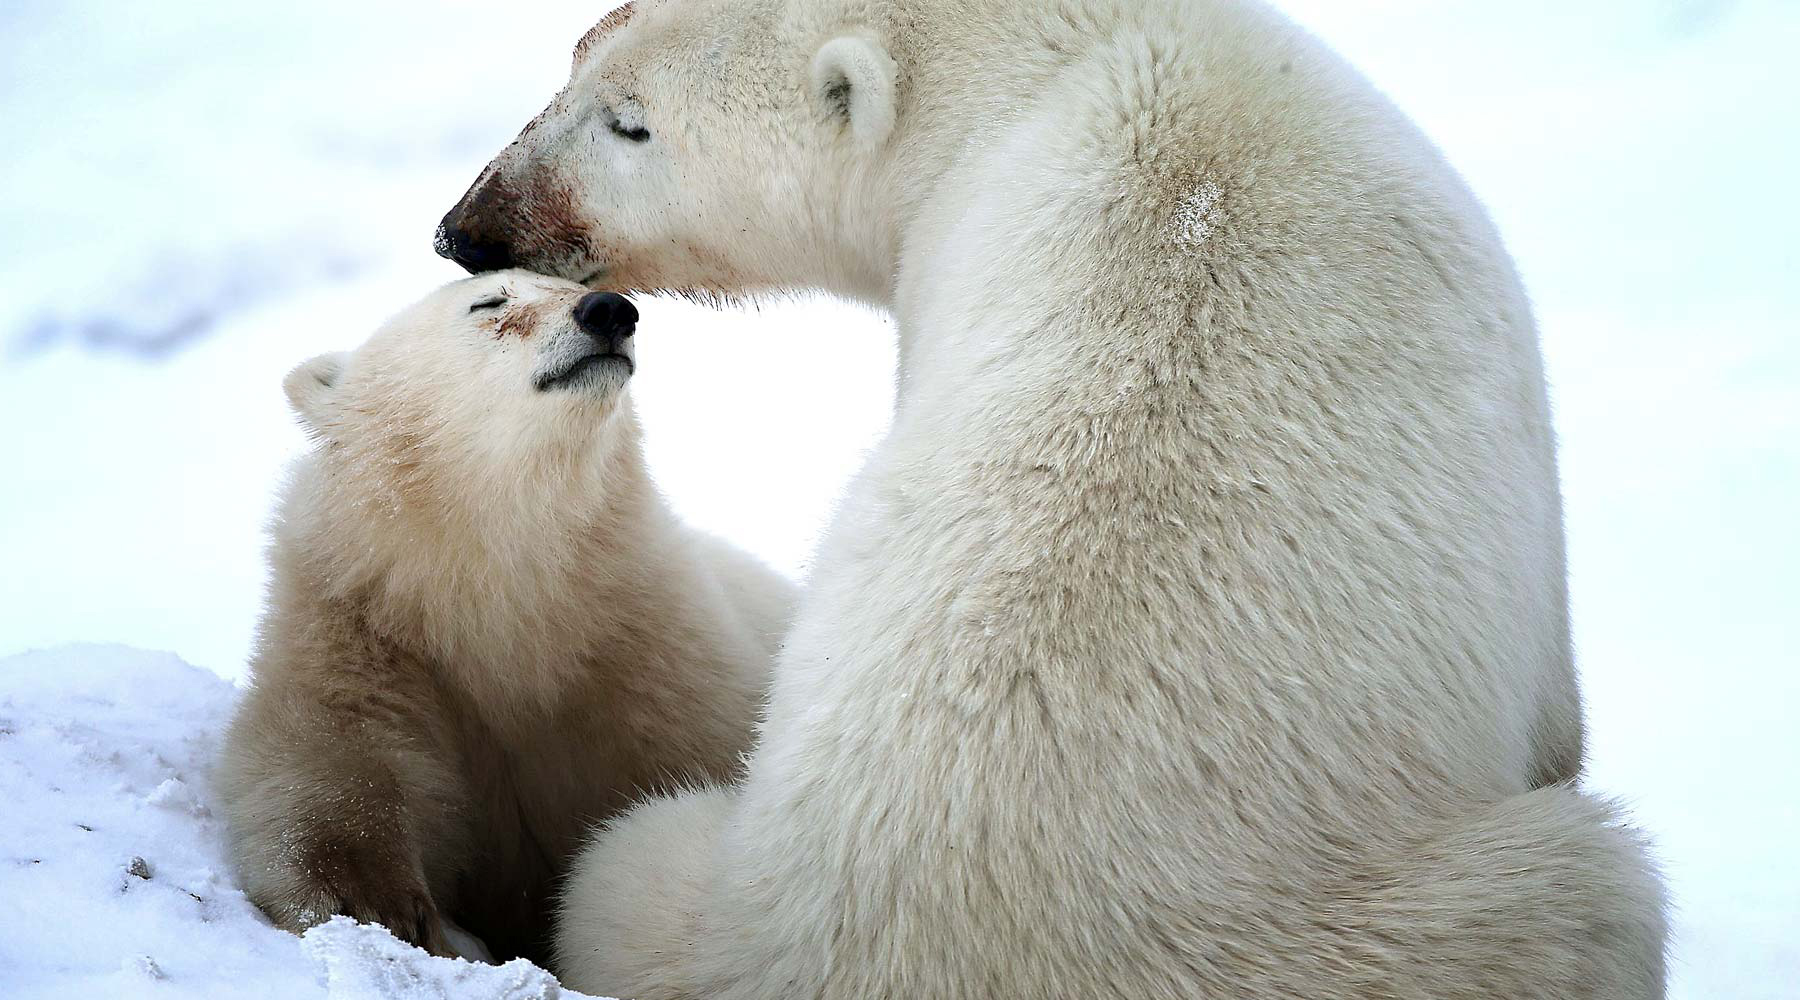Polar Bear: (488, 18, 1730, 1000), (235, 252, 765, 929)
